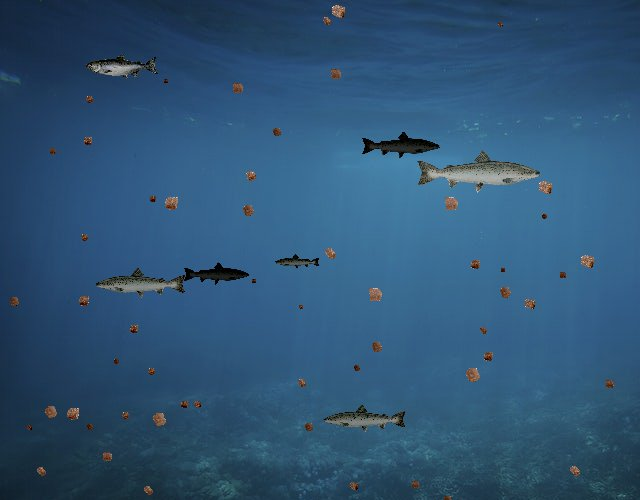Fish: (414, 148, 543, 194), (95, 267, 189, 300), (322, 403, 408, 434), (361, 130, 442, 159), (87, 54, 160, 80), (182, 261, 250, 286), (275, 253, 322, 270)
Pellet: (157, 189, 185, 217), (318, 241, 342, 265), (236, 198, 260, 222), (239, 164, 262, 187), (4, 291, 25, 312), (76, 230, 92, 246), (23, 422, 35, 434)
